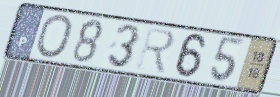3: (103, 23, 144, 70)
5: (207, 34, 248, 86)
6: (173, 32, 209, 80)
8: (71, 18, 106, 64)
O: (33, 13, 74, 60)
R: (133, 25, 177, 77)
